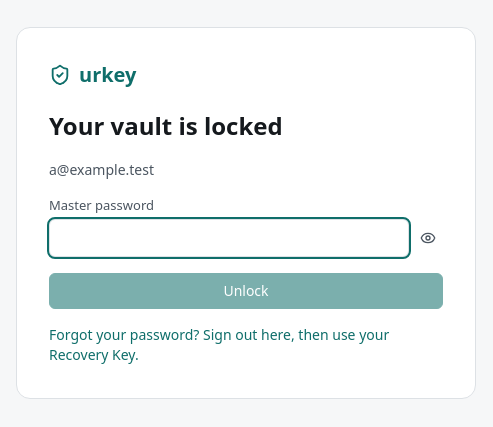
Test: lock screen › shows one generic message for a wrong password
Step 1. Type "nope" into the password field labelled "Master password" → (229, 238), box [49,219,409,257]
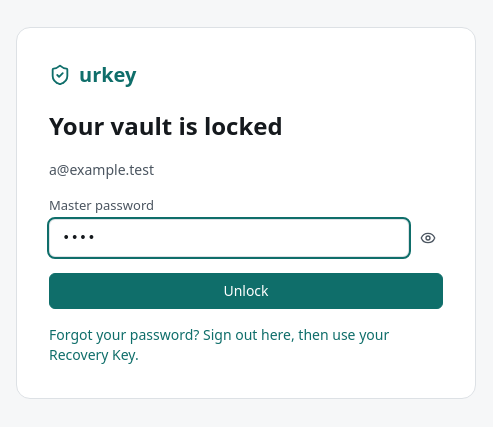
Step 2. Click the button "Unlock" → click(246, 291), box [49,273,443,309]
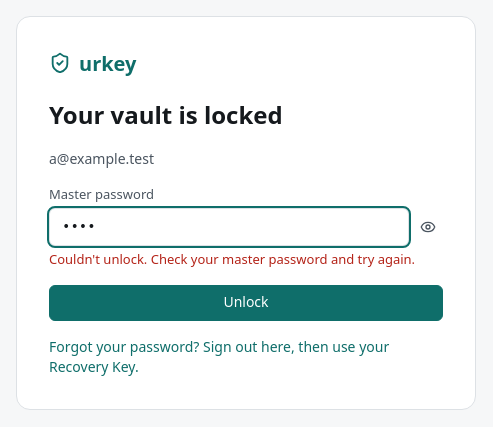
Expected: the message shows "Couldn't unlock. Check your master password", [49,250,415,268]
